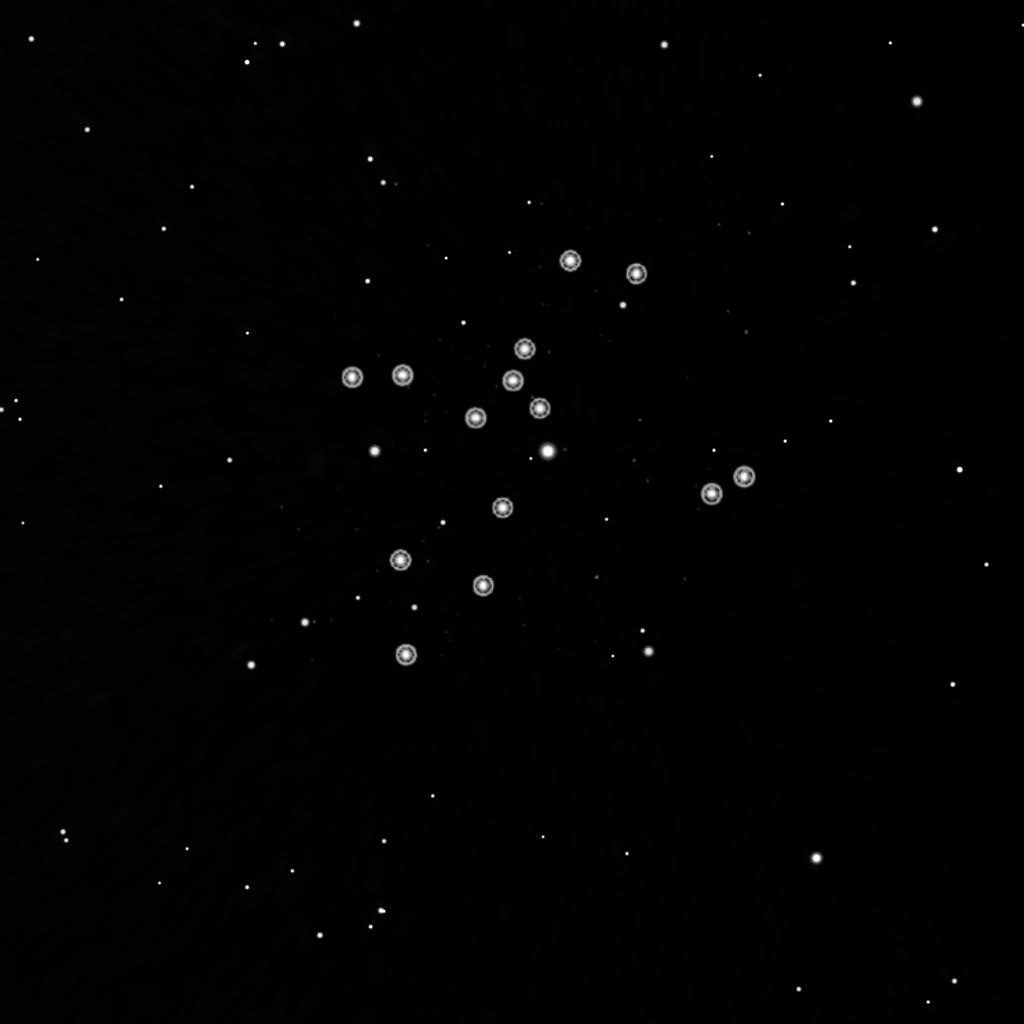canis_major: (458, 246, 652, 436)
